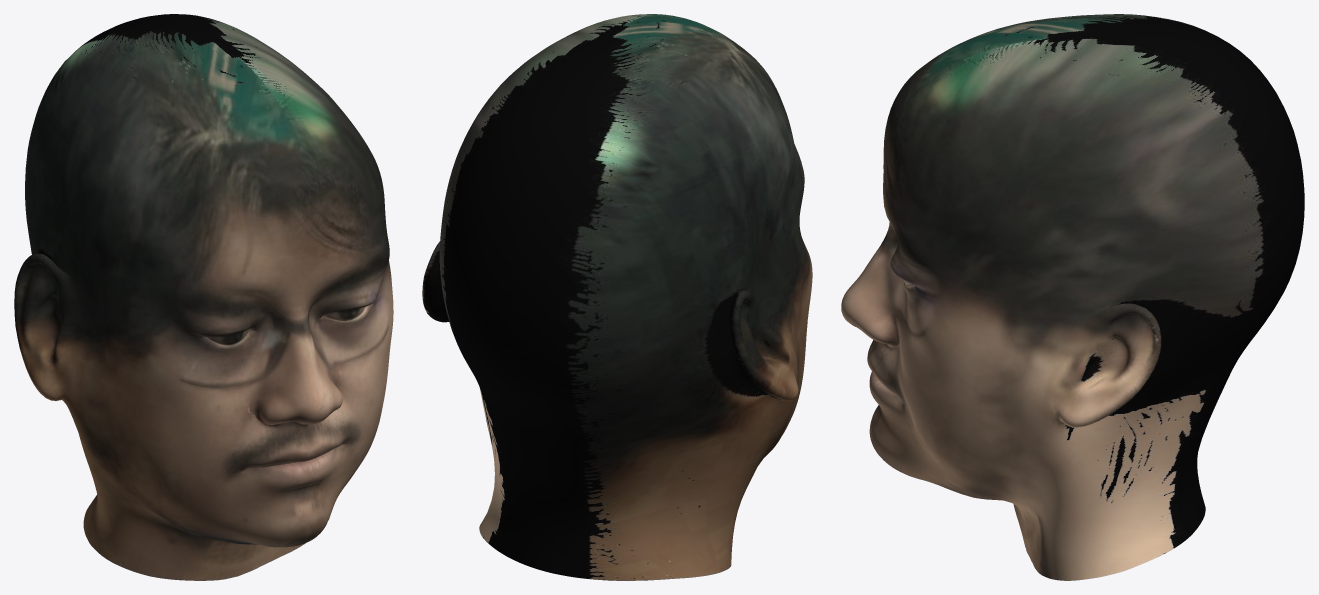
3 renders of one model, left to right at view 1: azimuth 30°, elevation 25°; view 2: azimuth 150°, elevation 25°; view 3: azimuth 270°, elevation 25°, orthographic. The views are drawn at different scales.
Visible parts, largest first — view 1: mesh; view 2: mesh; view 3: mesh.
Boxes of the visible parts, <box> form: mesh: <box>14,14,393,580</box>; mesh: <box>422,14,812,580</box>; mesh: <box>841,14,1304,580</box>.
Size of the model in its own units: 1.68 by 2.4 by 1.95.
Materials: 1 (1 with a texture image).
